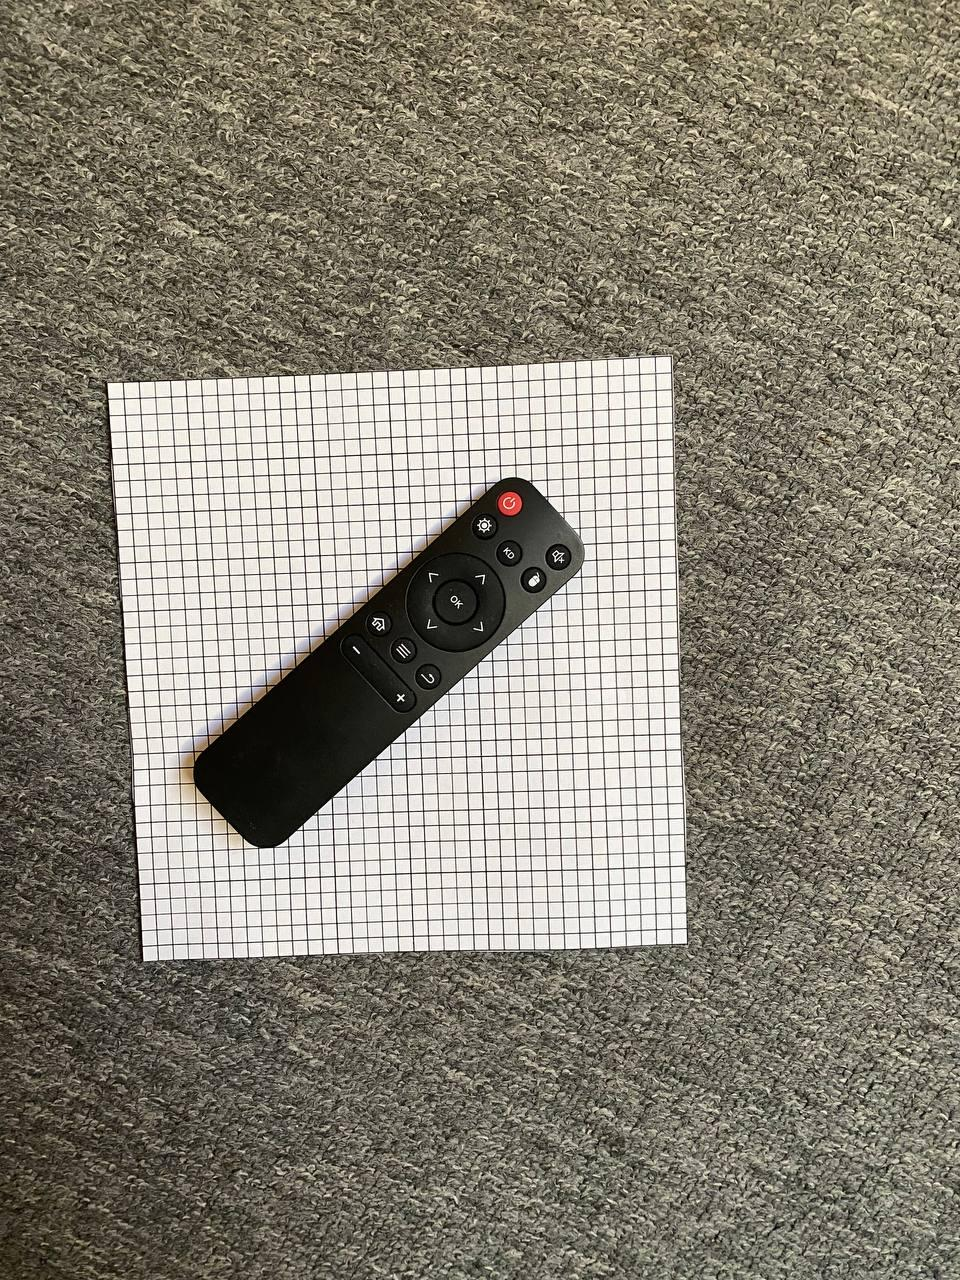grid: (84, 350, 703, 973)
